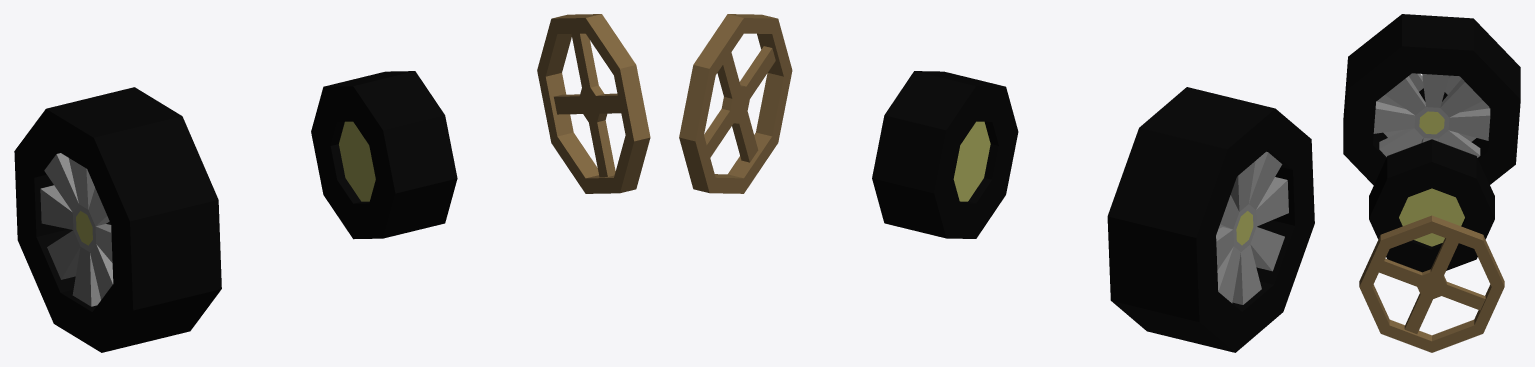
The model's file is Wheels.fbx.
3 renders of one model, left to right at view 1: azimuth 30°, elevation 25°; view 2: azimuth 150°, elevation 25°; view 3: azimuth 270°, elevation 25°, orthographic. The views are drawn at different scales.
Parts seen in each view (by area): view 1: Cylinder.006, Cylinder.002, Cylinder.008; view 2: Cylinder.006, Cylinder.002, Cylinder.008; view 3: Cylinder.006, Cylinder.002, Cylinder.008.
Part boxes in pixels (x1=…): Cylinder.006: x1=14, y1=87, x2=221, y2=352; Cylinder.002: x1=311, y1=71, x2=457, y2=239; Cylinder.008: x1=537, y1=14, x2=650, y2=193; Cylinder.006: x1=1107, y1=87, x2=1314, y2=352; Cylinder.002: x1=872, y1=71, x2=1018, y2=238; Cylinder.008: x1=679, y1=14, x2=792, y2=193; Cylinder.006: x1=1343, y1=14, x2=1520, y2=185; Cylinder.002: x1=1369, y1=139, x2=1494, y2=272; Cylinder.008: x1=1359, y1=215, x2=1504, y2=352.
Size of the model in its own units: 7.11 by 2.77 by 2.77.
